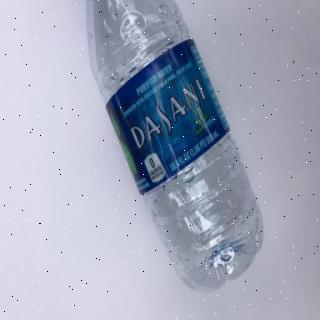Plastic-bottle: (85, 1, 266, 297)
